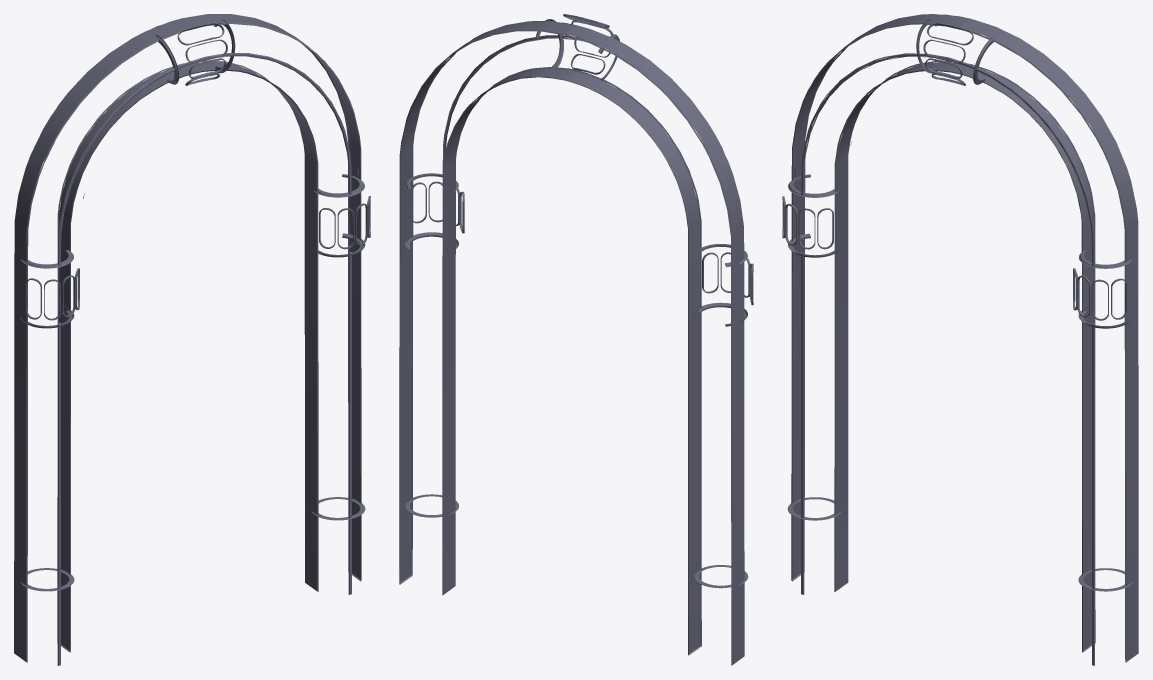
File: Metal1.obj
3 renders of one model, left to right at view 1: azimuth 30°, elevation 25°; view 2: azimuth 150°, elevation 25°; view 3: azimuth 330°, elevation 25°, orthographic.
Visible parts, largest first — view 1: reflect_metal; view 2: reflect_metal; view 3: reflect_metal.
Boxes of the visible parts, x1,y1,x2,y2 form: reflect_metal: [14, 14, 370, 665]; reflect_metal: [399, 14, 753, 665]; reflect_metal: [782, 14, 1138, 665].
Size of the model in its own units: 0.3728 by 0.6196 by 0.0571.
